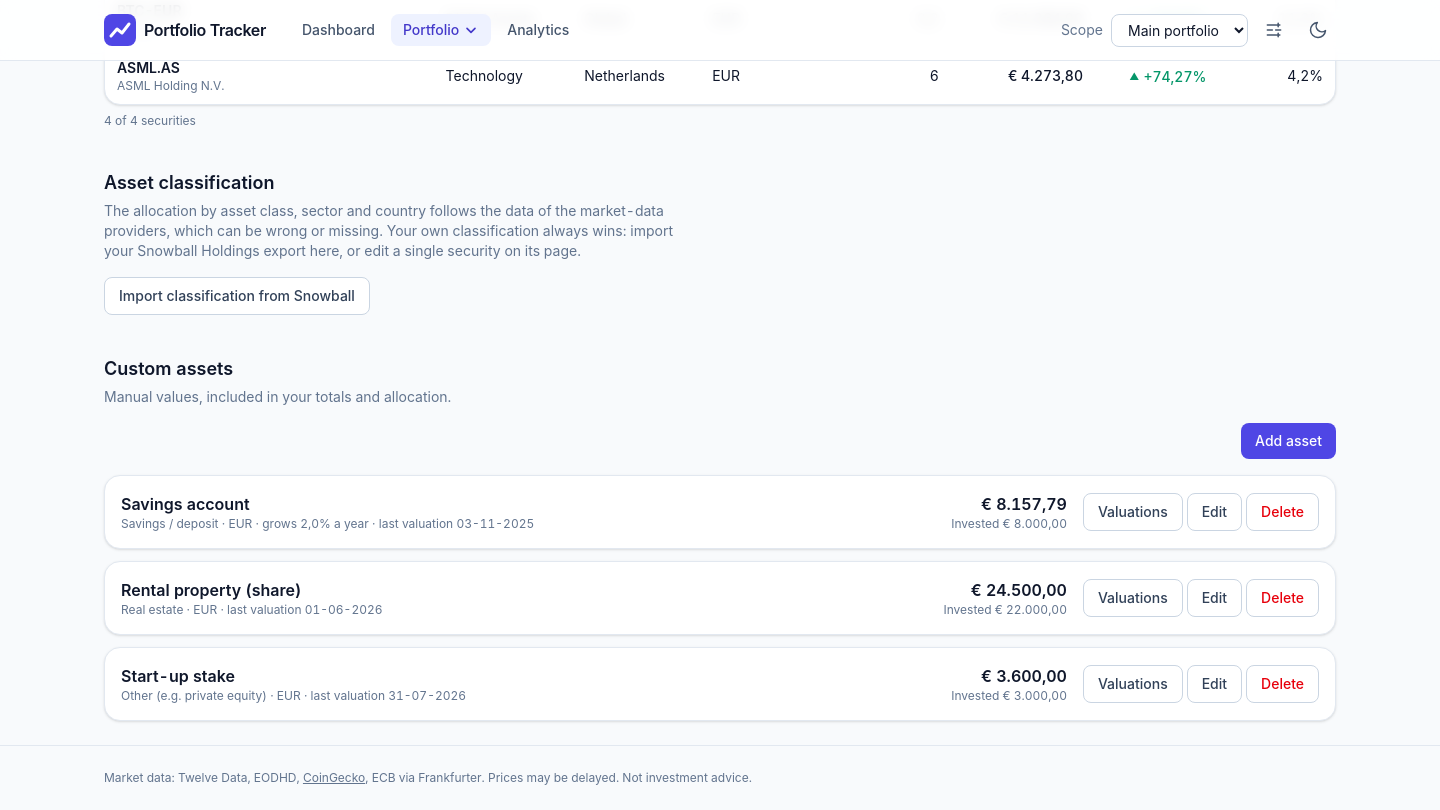
Test: AssetsPage › edits an asset
(page scrolled)
Expected: the heading "Rental property (share)" is shown, [121,580,301,600]
Click the button with aria-label "Edit Rental property (share)": point(1214, 598) [1187,579,1242,617]
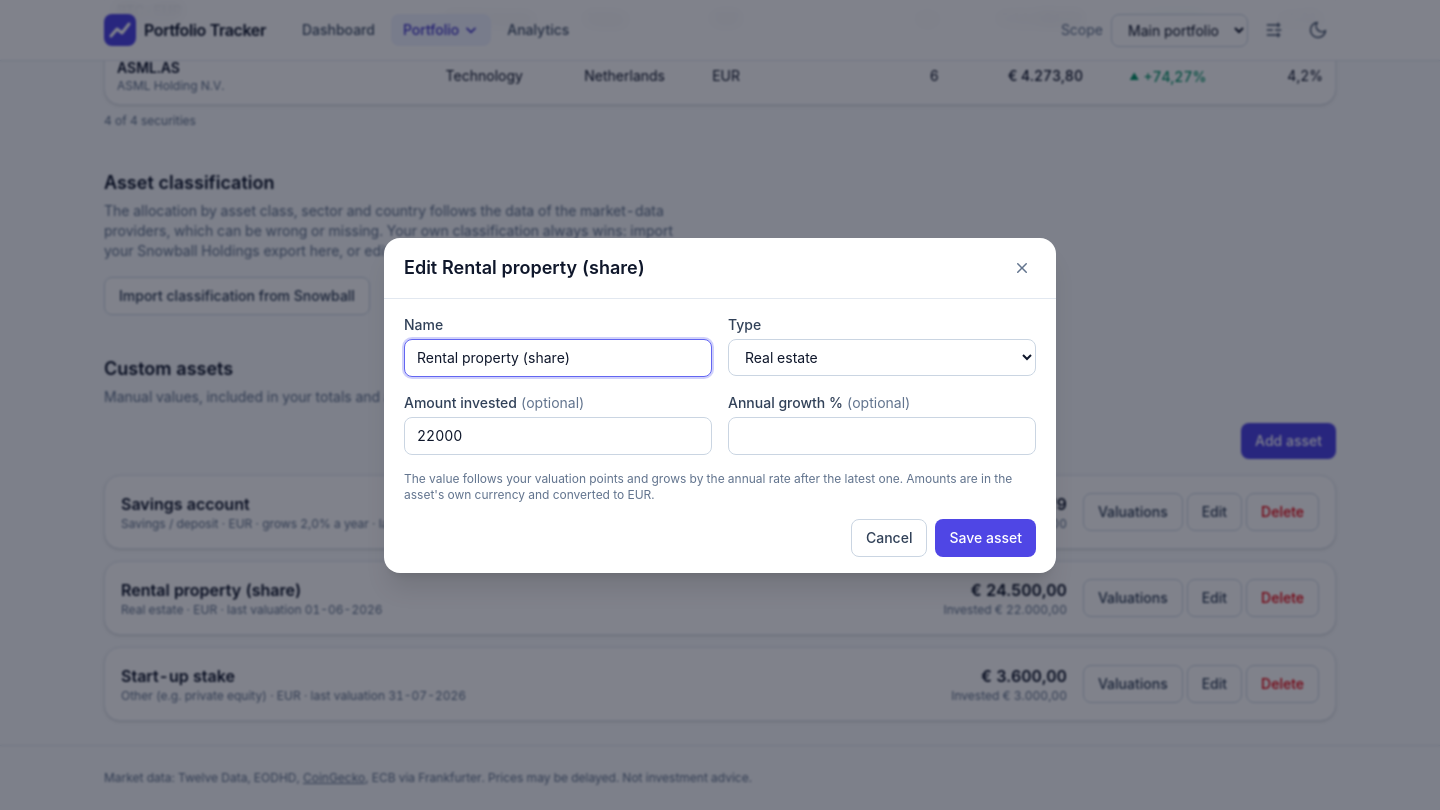
Replace the text in the field labelled "Name" with "Apartment": point(558, 358) [404,338,712,376]
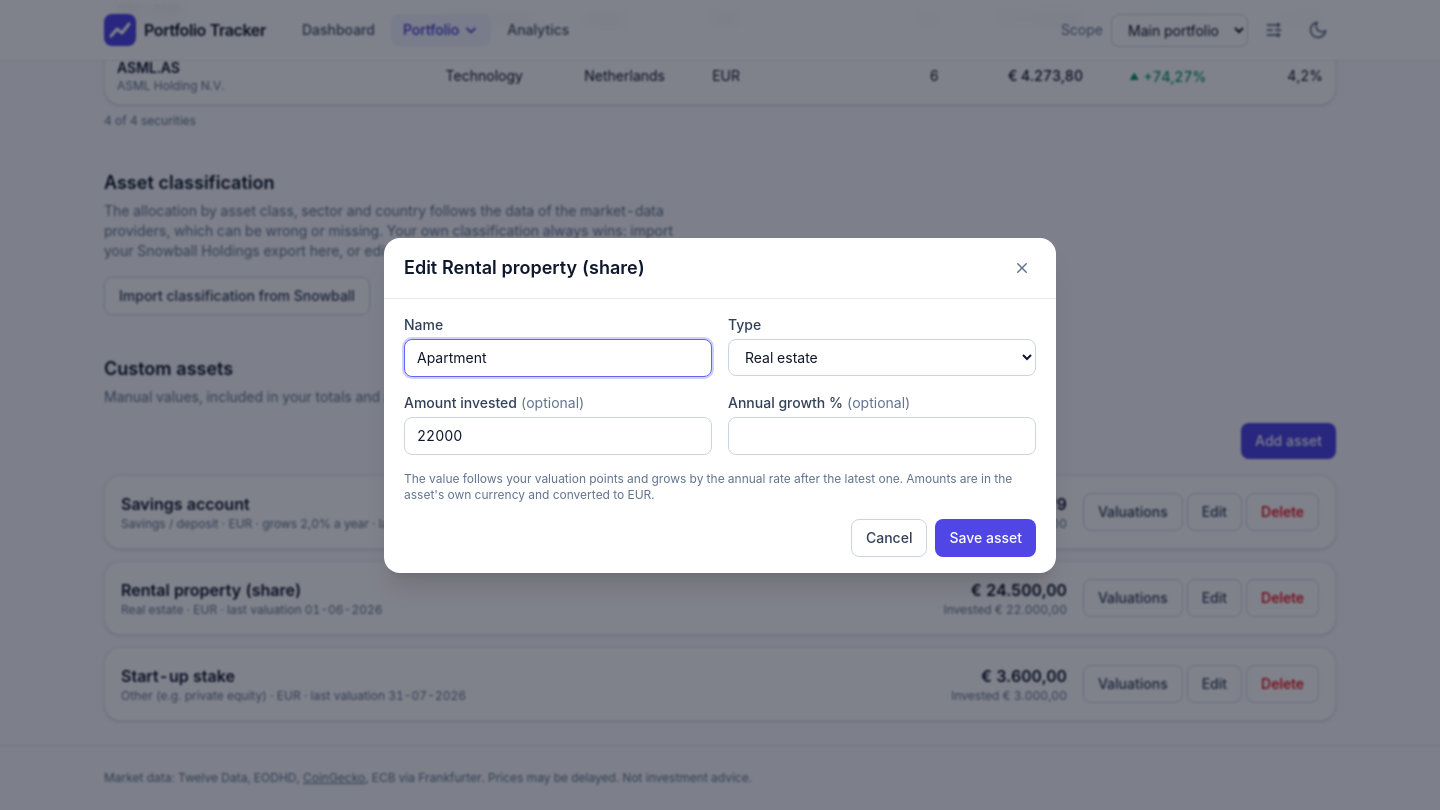
In the field labelled "Annual growth % (optional)": point(882, 436) [728,416,1036,454], type "abc"
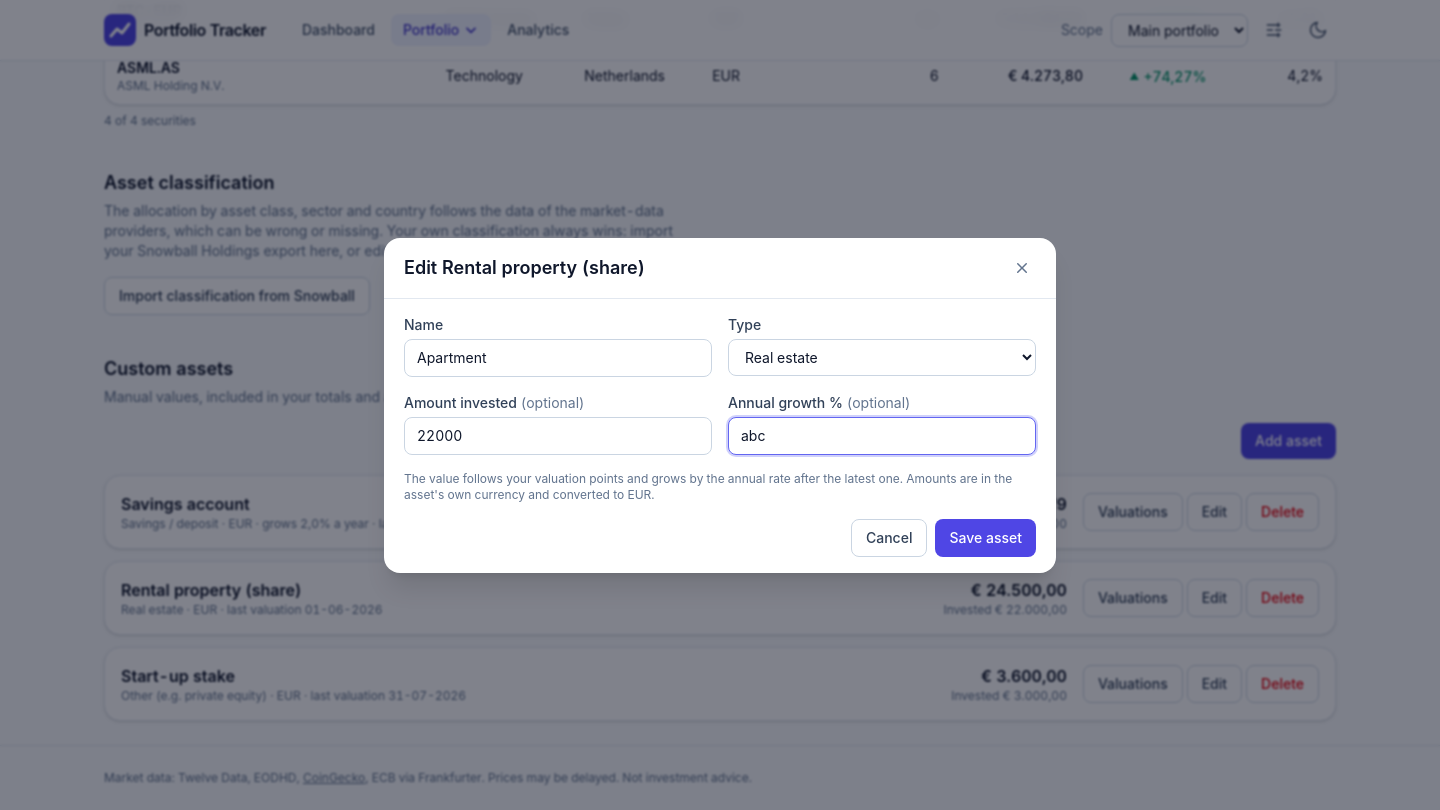
Click the button "Save asset": point(986, 538) [935,518,1036,556]
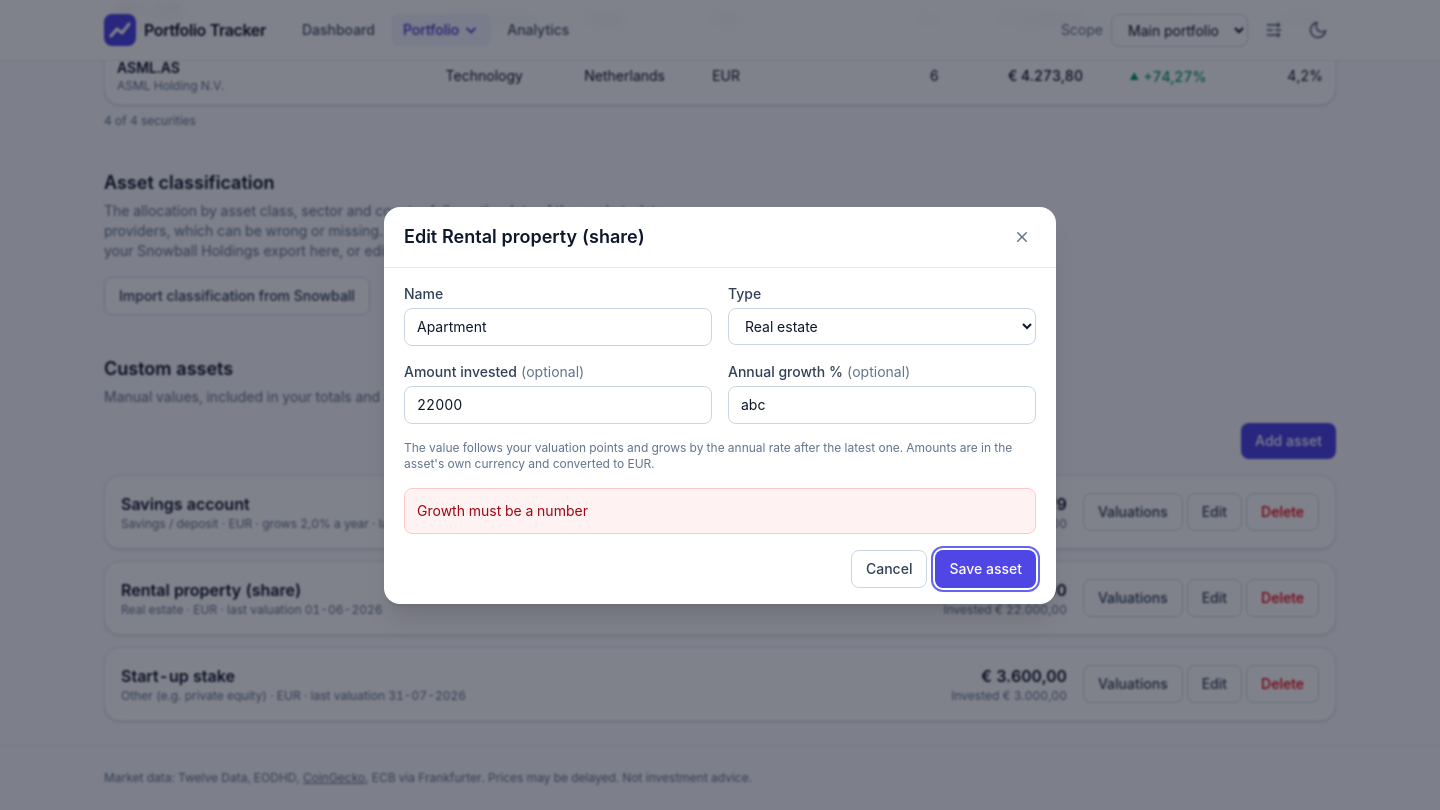
Expected: the message reads "Growth must be a number", [417,502,588,518]
Clear the field labelled "Annual growth % (optional)": point(882, 404) [728,386,1036,424]
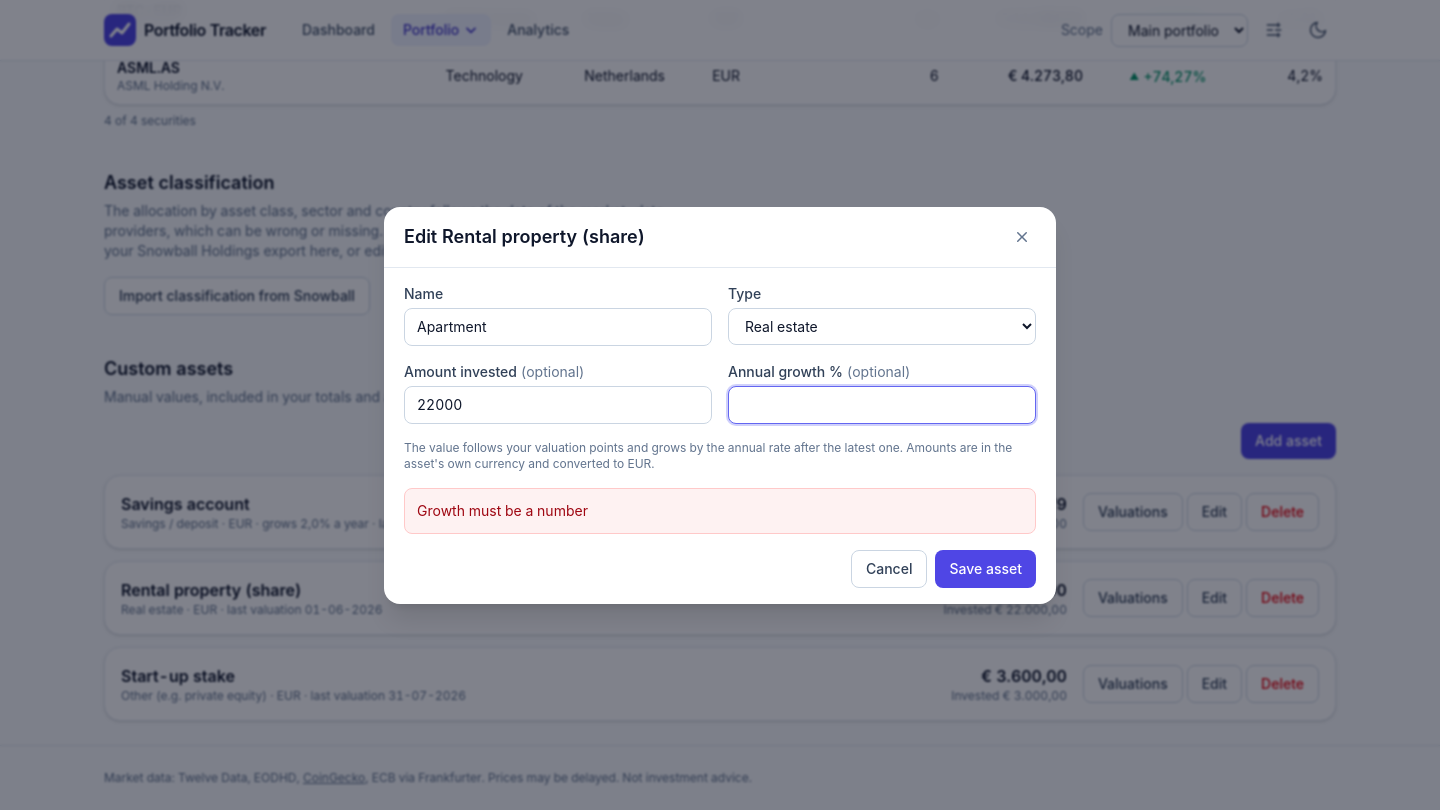
Click the button "Save asset": point(986, 568) [935,550,1036,588]
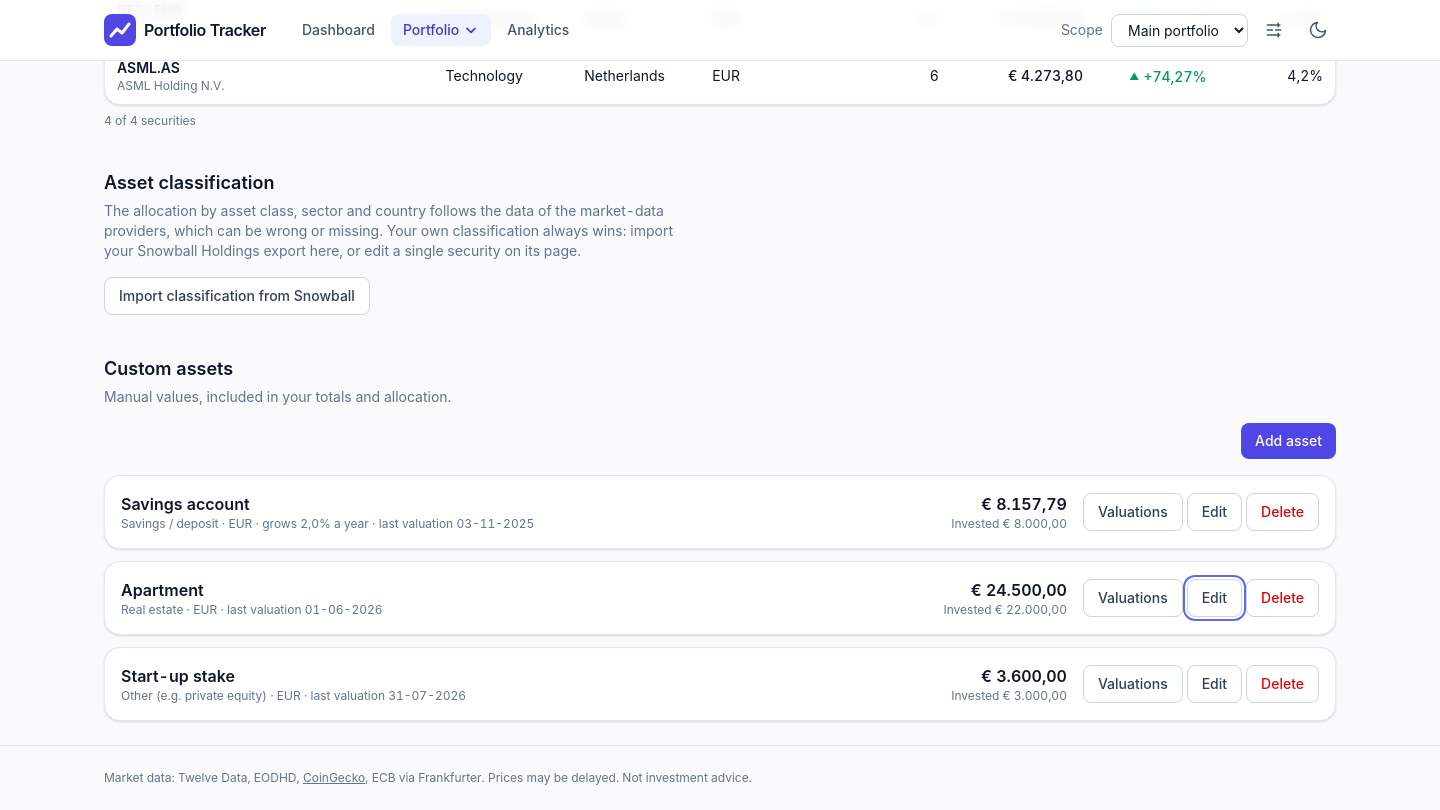
Expected: the heading "Apartment" is shown, [121,580,204,600]
